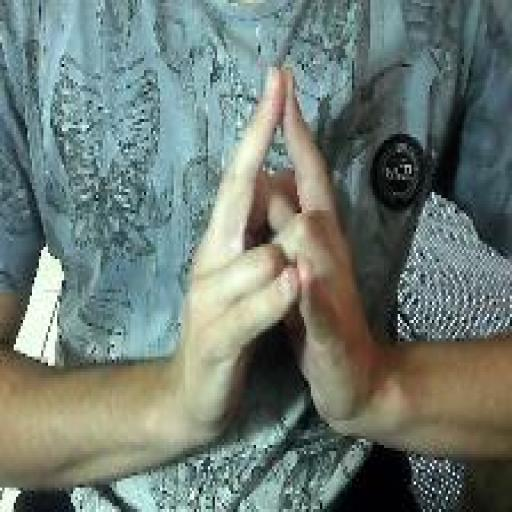Tori -bird-: (175, 60, 378, 446)
